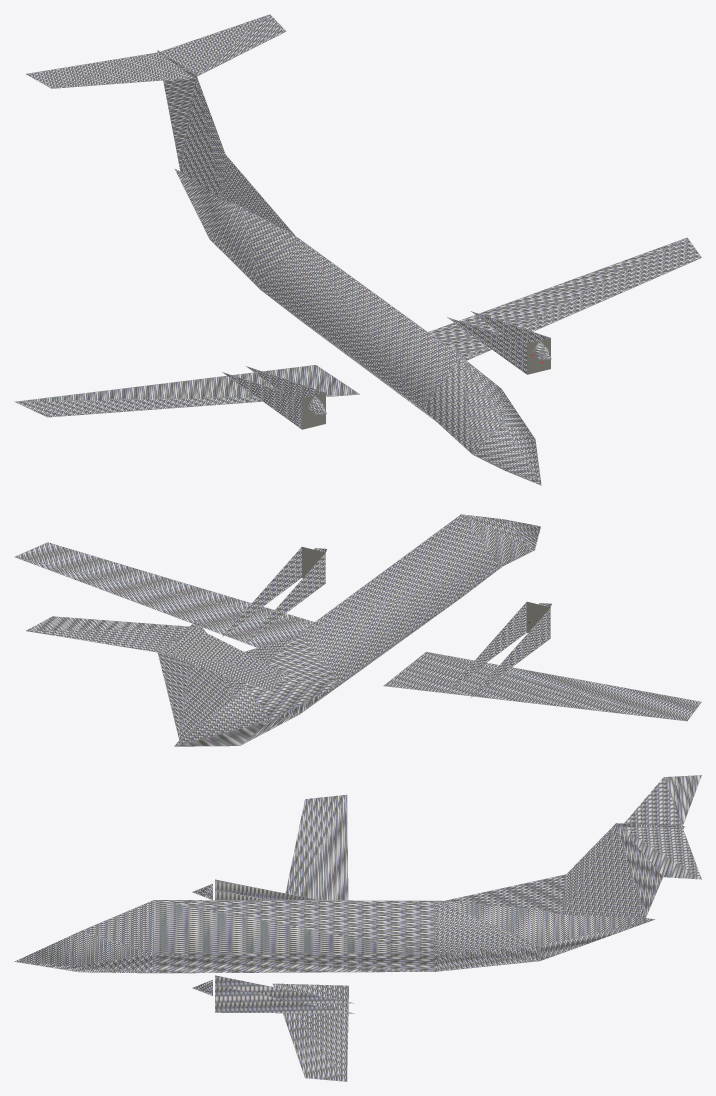
The model's file is AIA_EMB_120_MSFS_LOD1.gltf.
3 renders of one model, top to bottom at view 1: azimuth 30°, elevation 25°; view 2: azimuth 150°, elevation 25°; view 3: azimuth 270°, elevation 25°, orthographic. The views are drawn at different scales.
Parts seen in each view (by area): view 1: node1; view 2: node1; view 3: node1.
Boxes of the visible parts, x1,y1,x2,y2 form: node1: (14, 14, 701, 485); node1: (14, 514, 701, 746); node1: (14, 775, 701, 1081).
Bounding box in the file's own units: 19.73 × 4.81 × 19.97.
